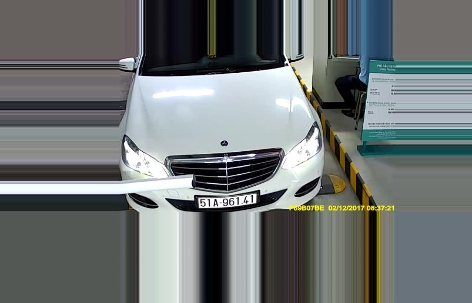plate: (193, 192, 256, 211)
